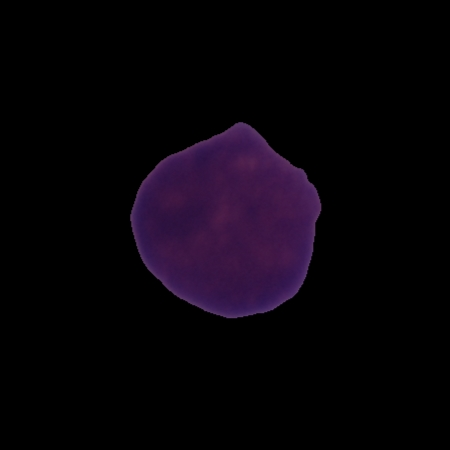ALL: (126, 118, 326, 321)
